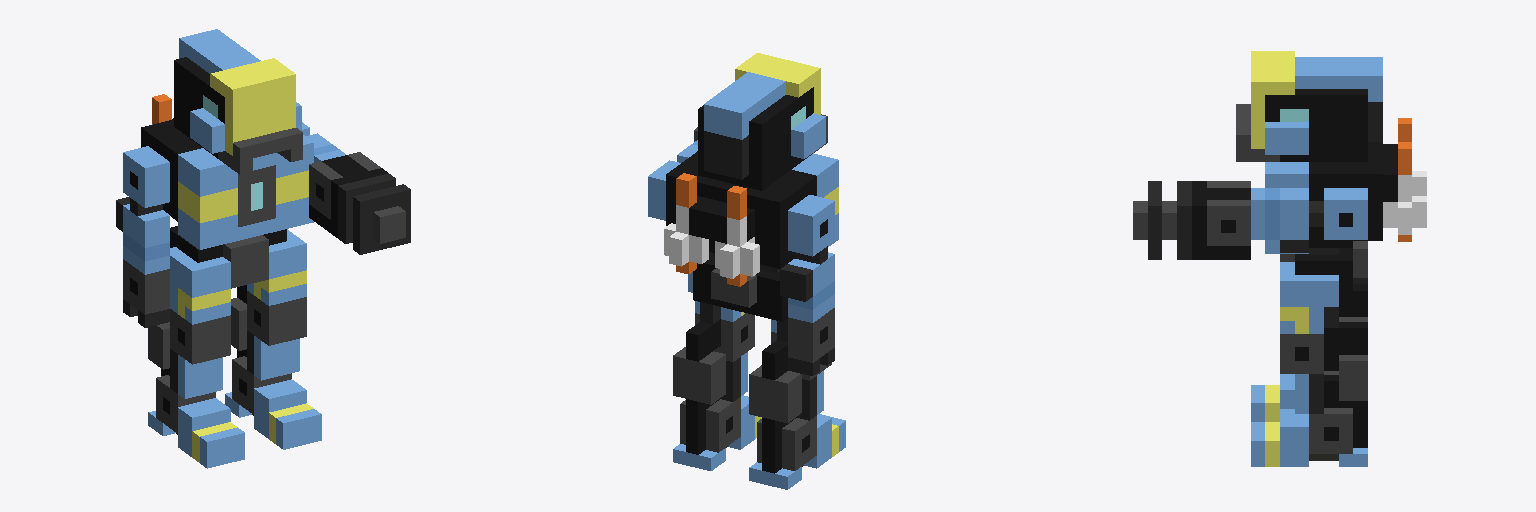
The picture shows the model from 3 angles: view 1: azimuth 30°, elevation 25°; view 2: azimuth 150°, elevation 25°; view 3: azimuth 270°, elevation 25°; orthographic projection.
Visible parts, largest first — view 1: Epoch; view 2: Epoch; view 3: Epoch.
Part boxes in pixels (left/top/right/bottom): Epoch: left=116, top=29, right=410, bottom=468; Epoch: left=648, top=53, right=845, bottom=489; Epoch: left=1133, top=51, right=1426, bottom=466.
Bounding box in the file's own units: 0.56 × 1.12 × 0.8.
1 materials, 1 textured.